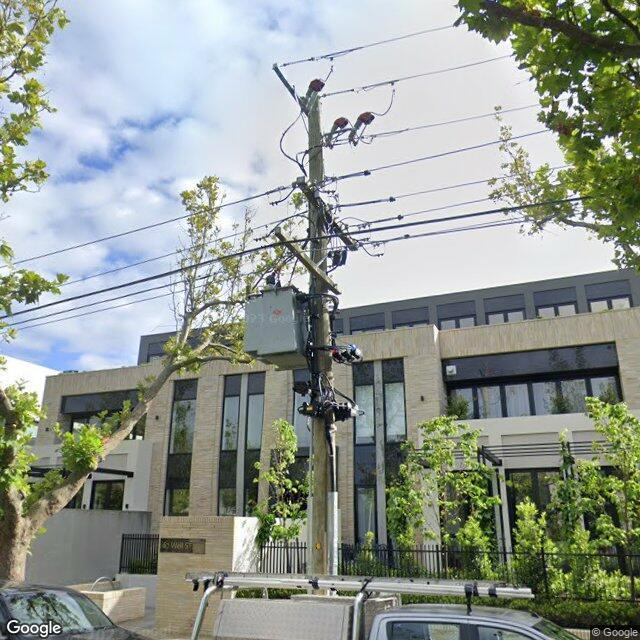HV-transmission: (301, 78, 375, 150)
crossarm: (296, 176, 358, 251), (275, 226, 342, 295), (272, 64, 308, 116)
timber-pole: (308, 95, 338, 596)
transformer: (244, 285, 311, 371)
